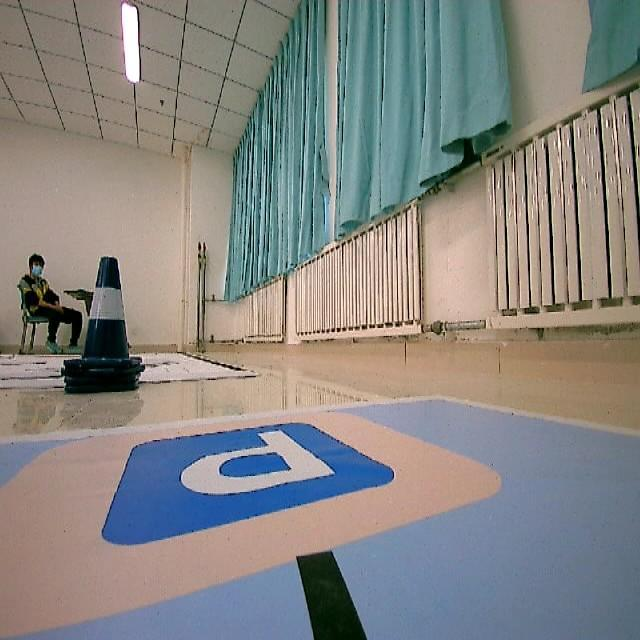obstacle: (65, 252, 146, 406)
